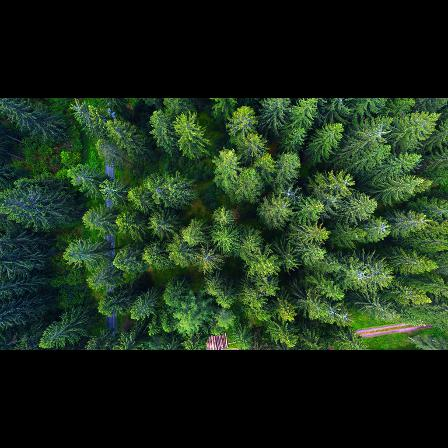Sick: (276, 182, 302, 202), (324, 300, 343, 323), (336, 172, 356, 189), (374, 220, 392, 238)
